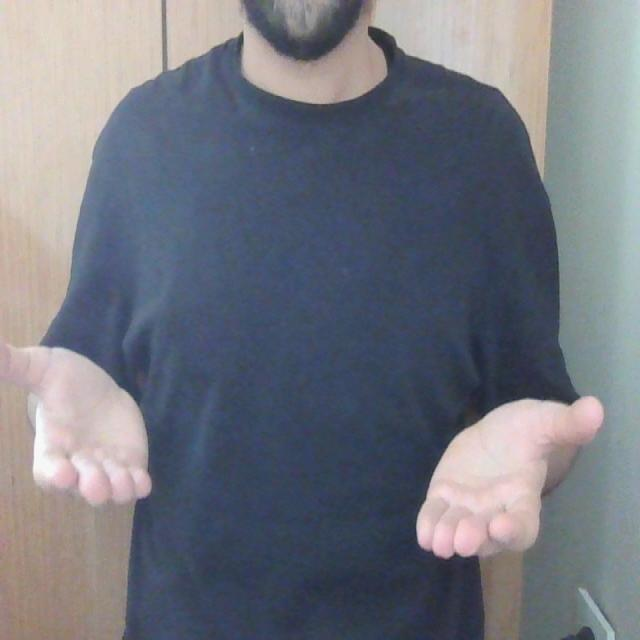Evet: (0, 334, 606, 564)
